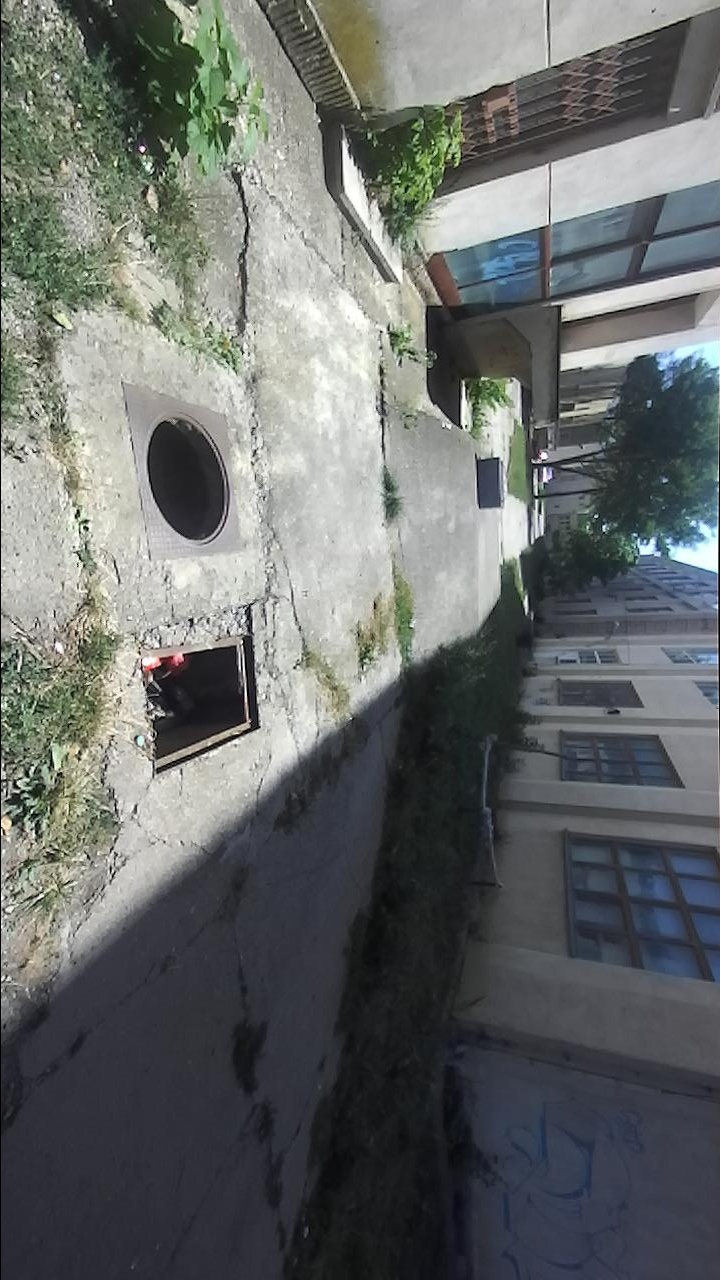drain: (142, 607, 264, 780), (147, 402, 233, 543)
